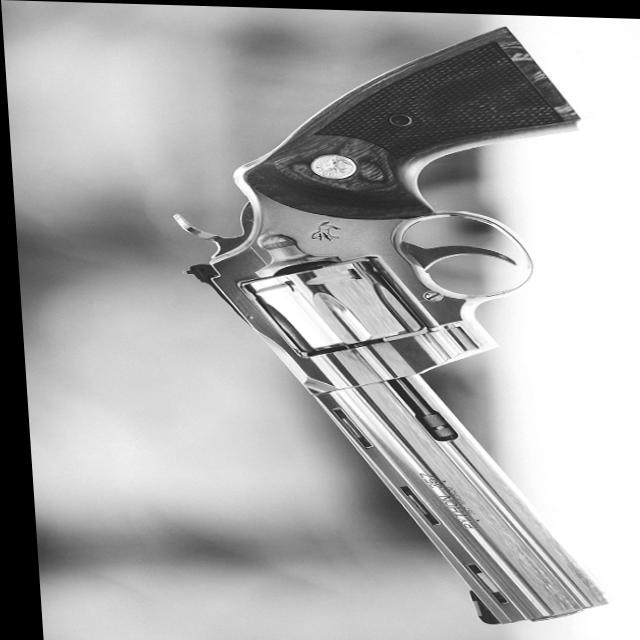handgun: (145, 10, 613, 628)
